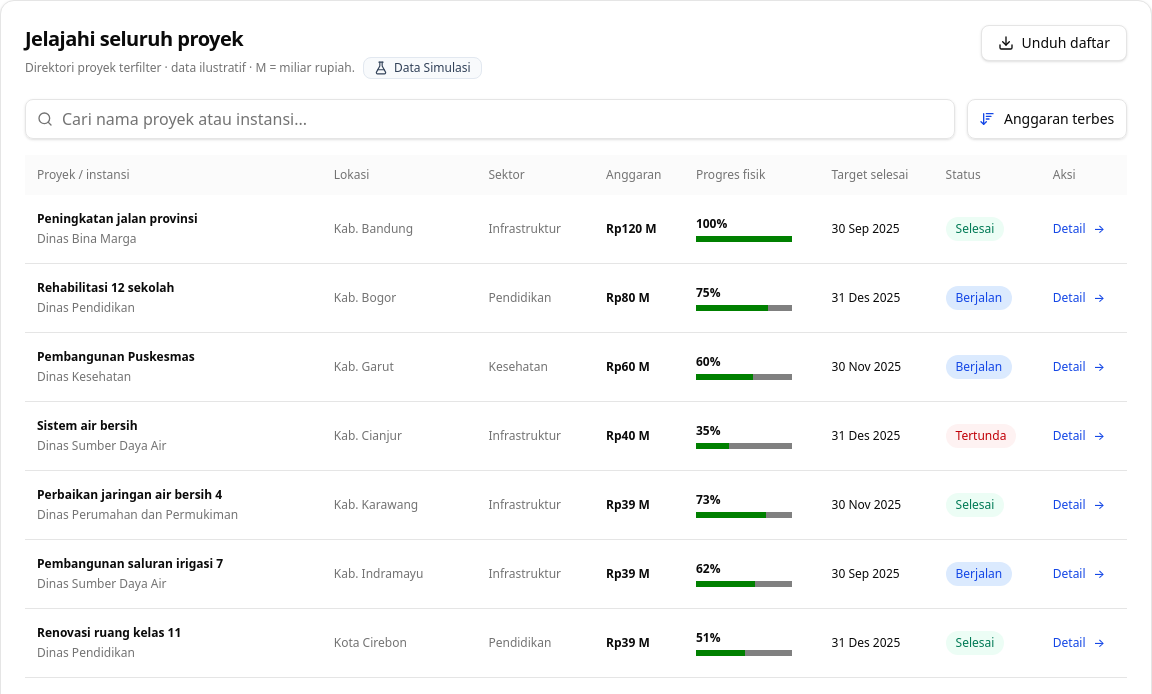
Test: ProyekData › opens the selected project details in an accessible dialog
Click the button named "Lihat detail Peningkatan jalan provinsi" at (1079, 229), box [1053,221,1105,237]
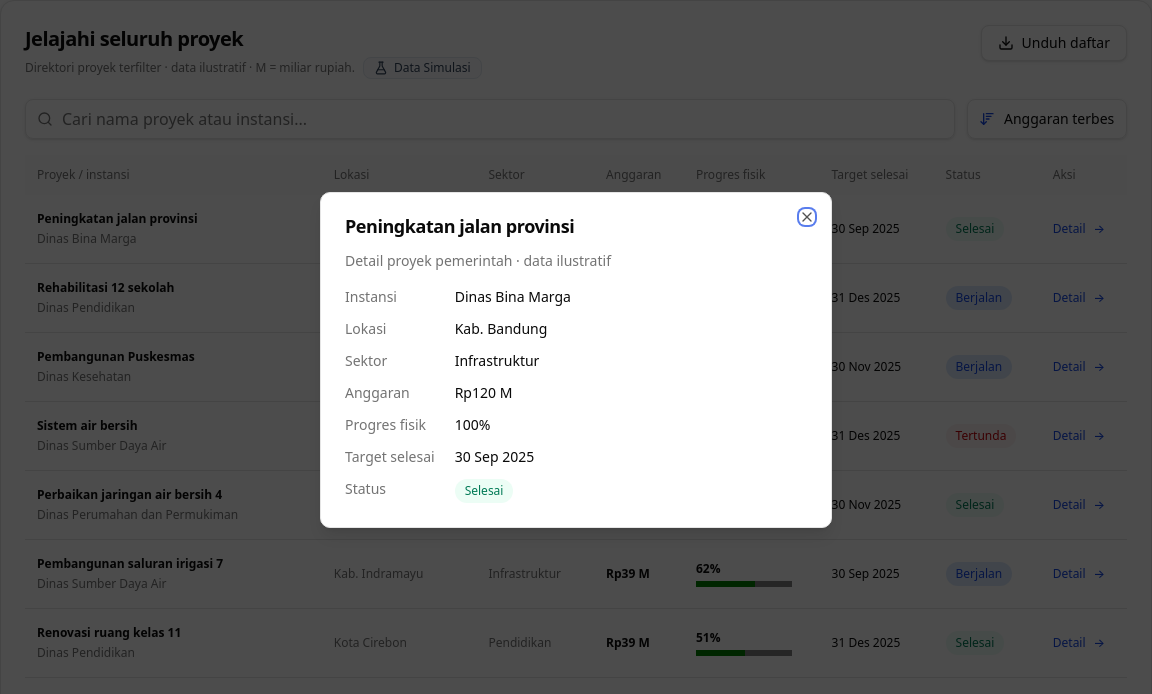
Now the text "Dinas Bina Marga" is shown, box [455,287,571,306]
Now the text "Rp120 M" is shown, box [455,383,512,402]
